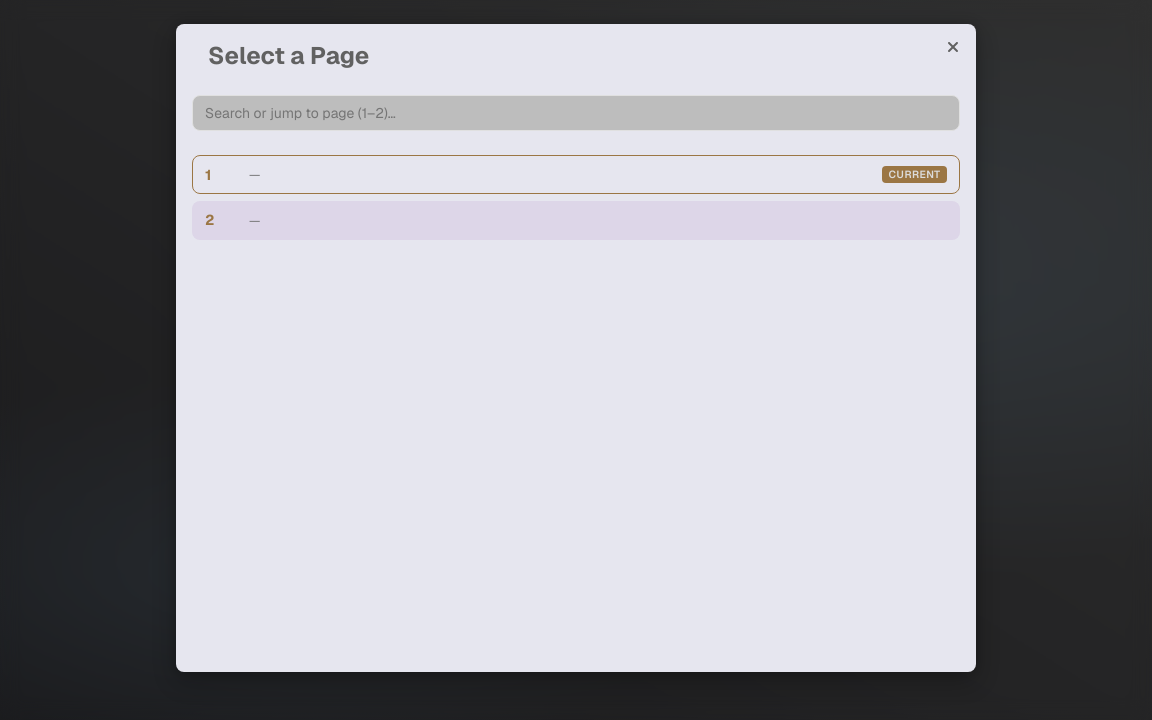
SearcherModal › shows matching text snippets from anywhere in the spell for a text query
Expected: the list item with test id "searcher-page-1" is shown, [192,155,960,194]
Type "dawn" into the field with test id "searcher-input" at (576, 113), box [192,95,960,131]
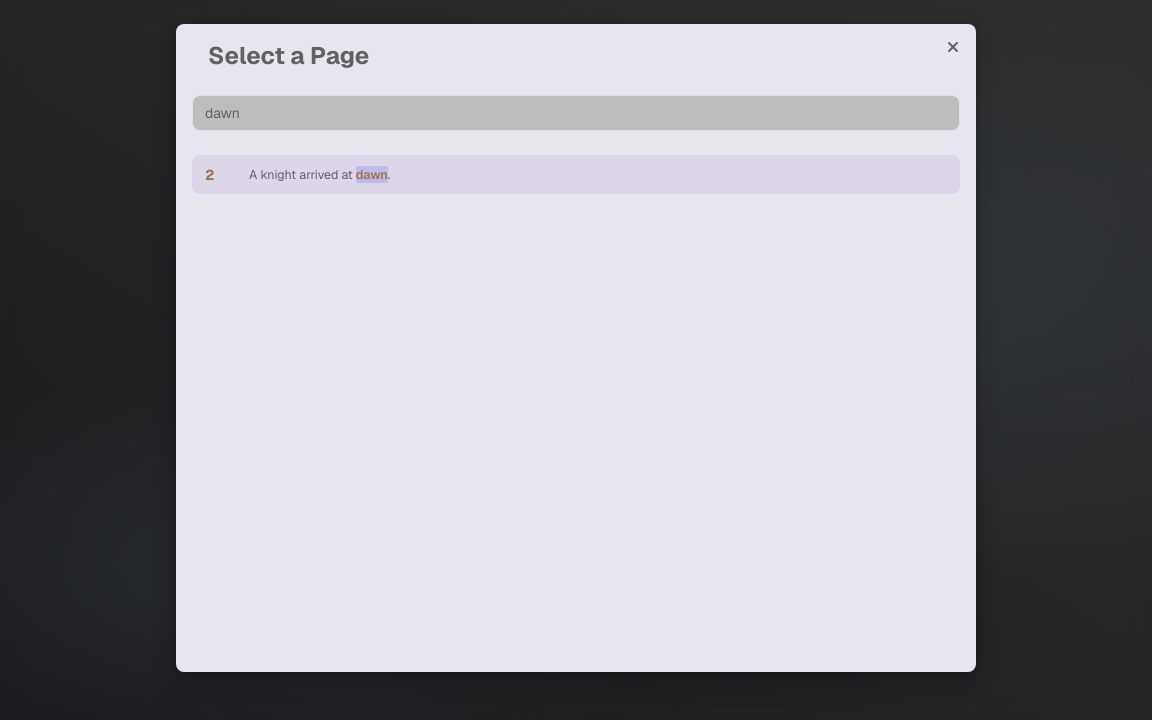
Result: the number of list items with test id "searcher-match" is 1 at [192,155,960,194]
